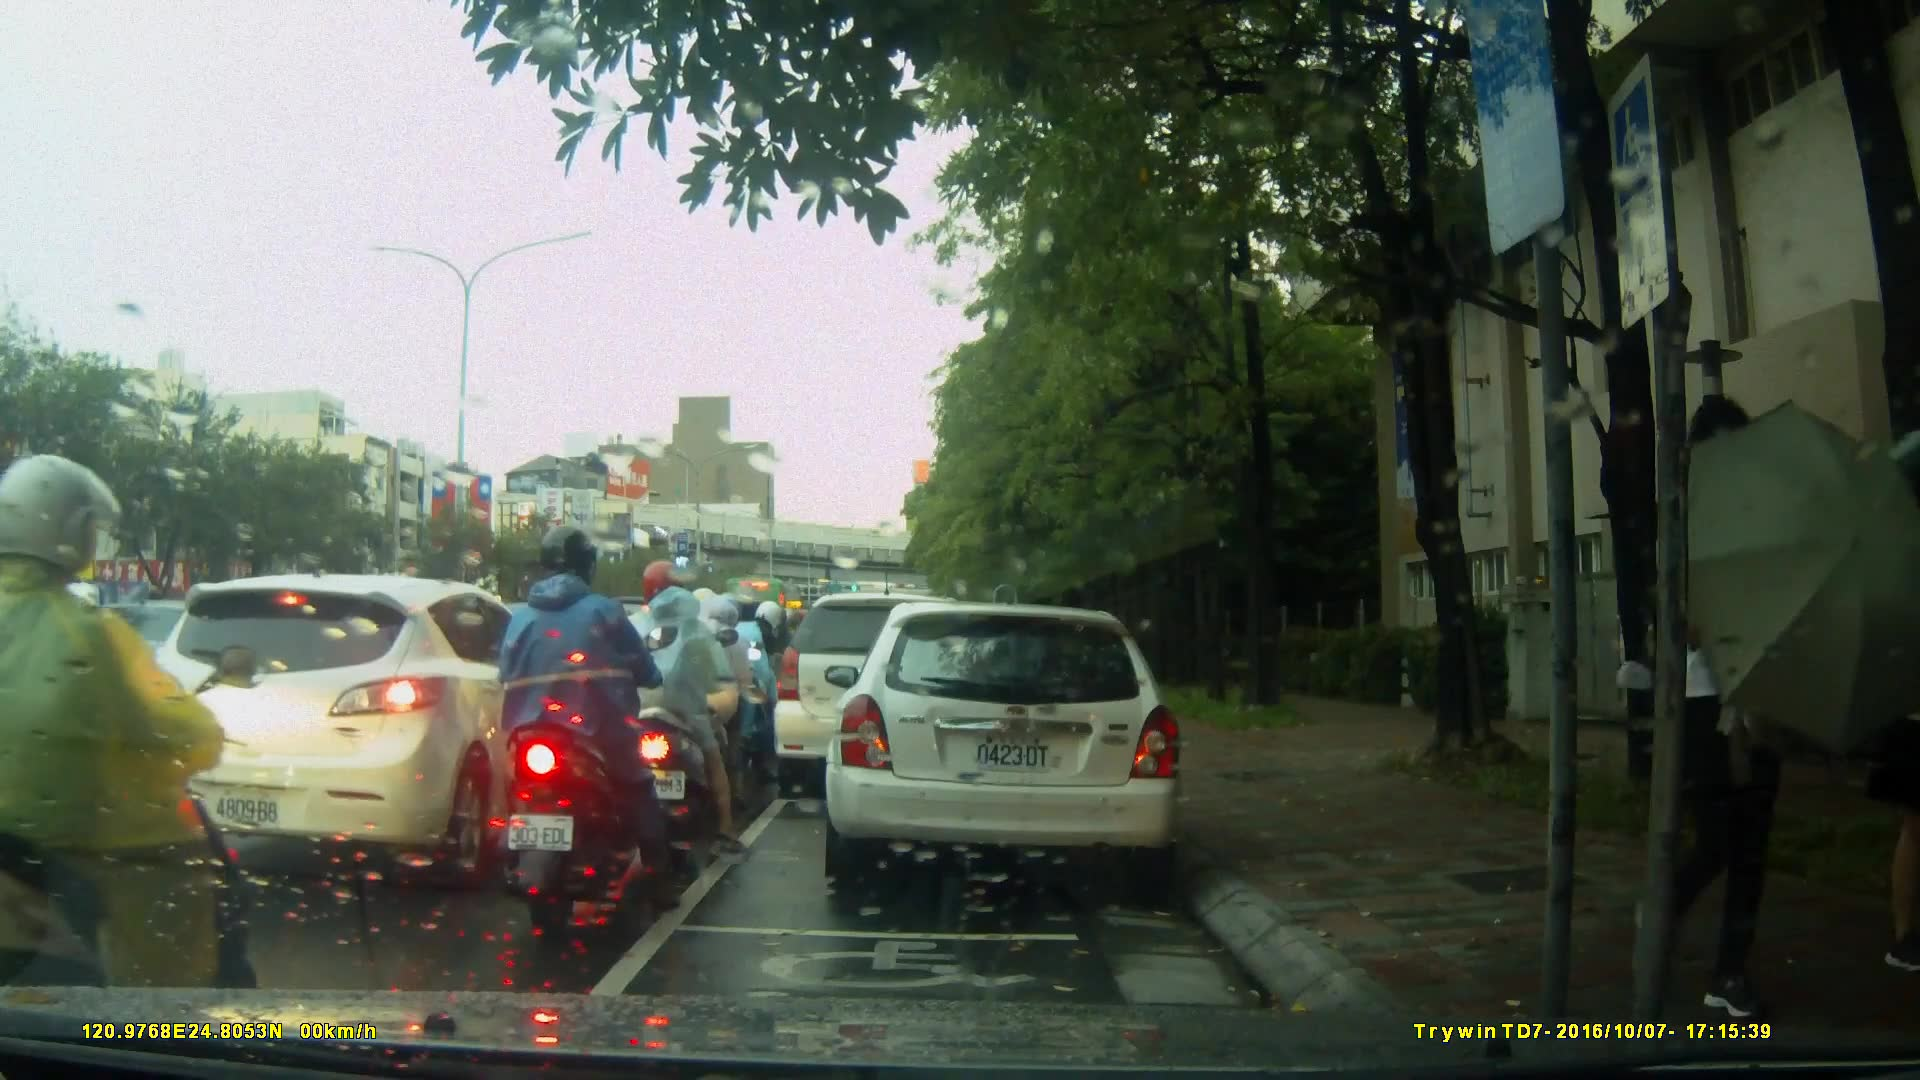pedestrian: (1637, 421, 1799, 1002)
rider: (1, 461, 286, 1078), (492, 523, 682, 927), (597, 560, 742, 862), (642, 581, 764, 823), (718, 594, 788, 767)
vehicle: (113, 570, 588, 884), (822, 604, 1188, 883), (774, 595, 995, 802), (33, 600, 271, 735)
